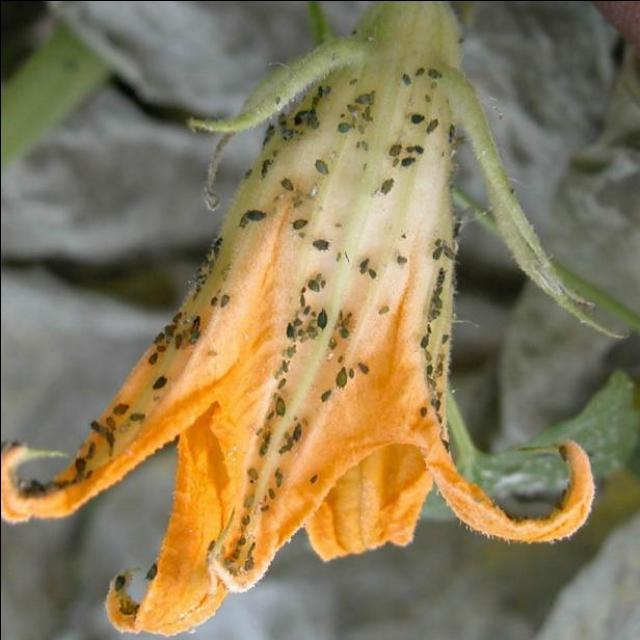Aphids: (220, 257, 388, 580), (137, 238, 239, 392), (408, 215, 457, 439), (396, 52, 444, 130), (84, 399, 147, 456), (372, 138, 430, 196), (329, 79, 378, 147), (275, 85, 327, 143), (278, 212, 334, 260), (340, 242, 392, 292), (269, 162, 309, 204), (231, 198, 268, 240), (306, 152, 339, 174), (392, 234, 408, 272)
